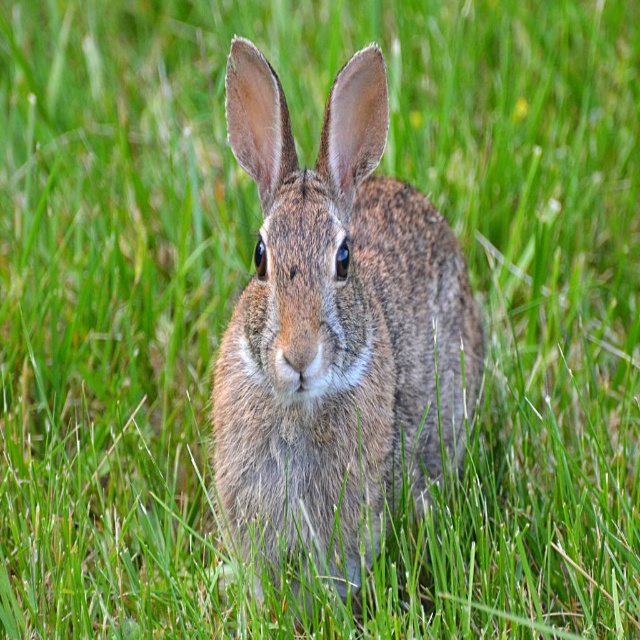Rabbit: (197, 34, 503, 640)
